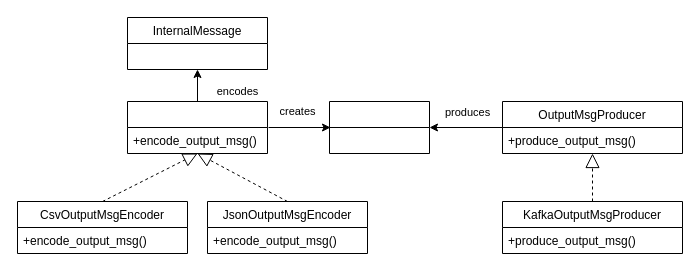
Image size: 700x274. Some labels were removed from this diagram. The box of each missing label's shape, as (x1, y1, x2, y2) in pixels:
OutputMessage: (328, 100, 430, 154)
OutputMsgEncoder: (126, 100, 268, 154)
